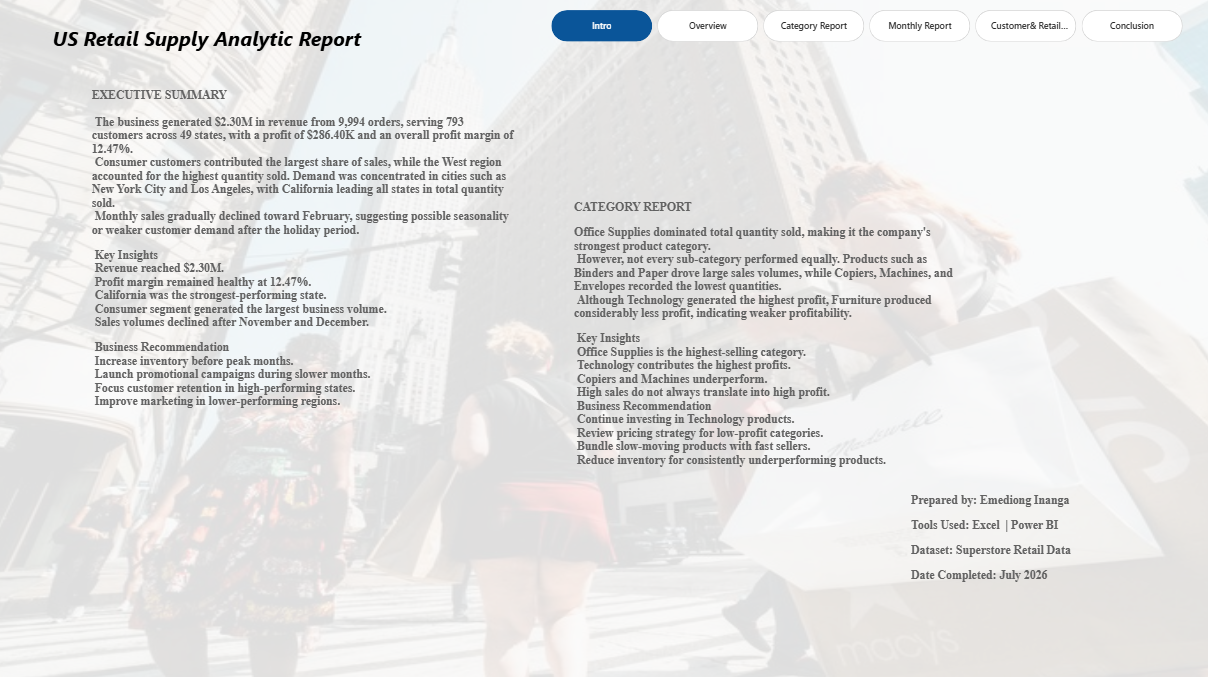

This screenshot's page, from the dashboard's own definition file:
{"tool":"powerbi","page":{"name":"Intro","canvas":[1920,1080],"ordinal":0},"visuals":[{"type":"textbox","box":[914.1,318.7,610,489.1],"z":0},{"type":"textbox","box":[150.2,139.2,674.1,588],"z":1000},{"type":"textbox","box":[87.1,38.6,767.1,52.9],"z":2000},{"type":"pageNavigator","box":[878,16,1000,50],"z":3000},{"type":"textbox","box":[1448,764,472,222],"z":4000}]}

Visuals, with their boxes in screenshot pixels (x1, y1, x2, y2), scaled from the page's 1920x1080 canvas onto the 1208x677 screenshot:
textbox: <region>575, 200, 959, 506</region>
textbox: <region>95, 87, 519, 456</region>
textbox: <region>55, 24, 537, 57</region>
pageNavigator: <region>552, 10, 1182, 41</region>
textbox: <region>911, 479, 1207, 618</region>
